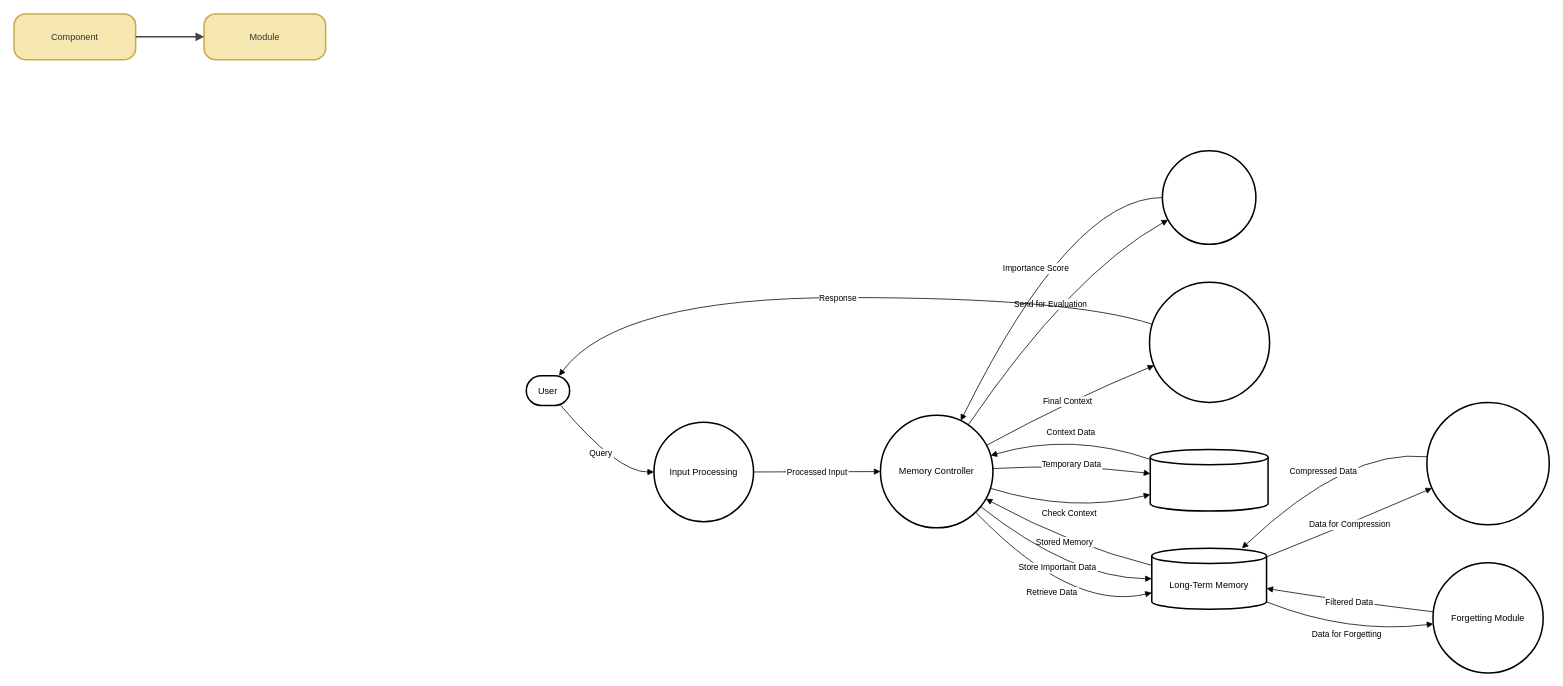
Some shapes in this 1563 by 686 pixel diagram are drawn without their labels. The centre of each missing label's shape, as x and y in pixels:
"Compression Module" goes at (1488,463).
"Response Generator" goes at (1209,342).
"Scoring Module" goes at (1208,197).
"Short-Term Memory" goes at (1208,479).
